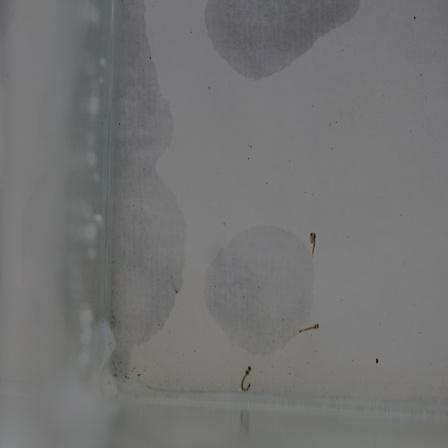Jentik-Nyamuk: (293, 317, 325, 339), (238, 363, 258, 395), (305, 228, 322, 262)
